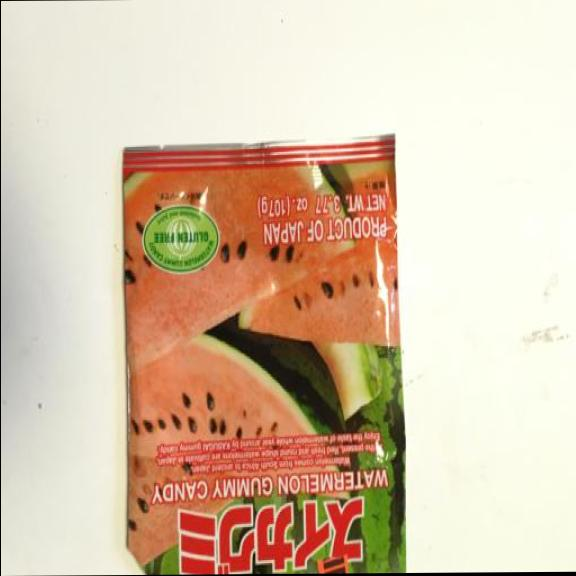Plastik: (106, 123, 416, 575)
